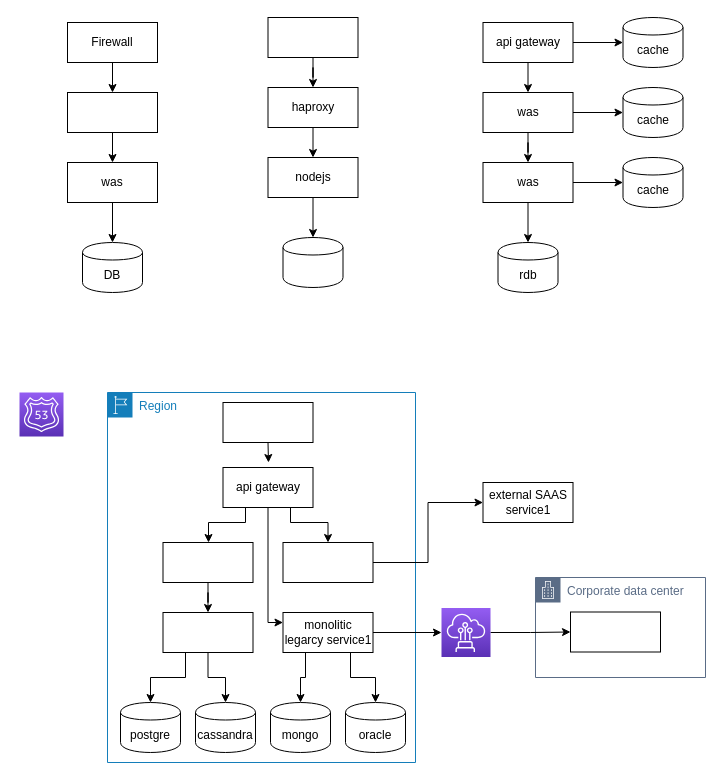
This 723x780 diagram has some shape labels left out. Here are the shapes that lost their labels. From the top down, the centre of each, then its label:
the point at 312,37: elb
the point at 112,112: L4
the point at 312,262: dynamodb
the point at 41,414: Router53
the point at 267,422: ALB
the point at 207,562: internal ALB
the point at 327,562: microservice2
the point at 207,632: microservice3
the point at 465,632: Direct Connect
the point at 615,631: services in IDC
